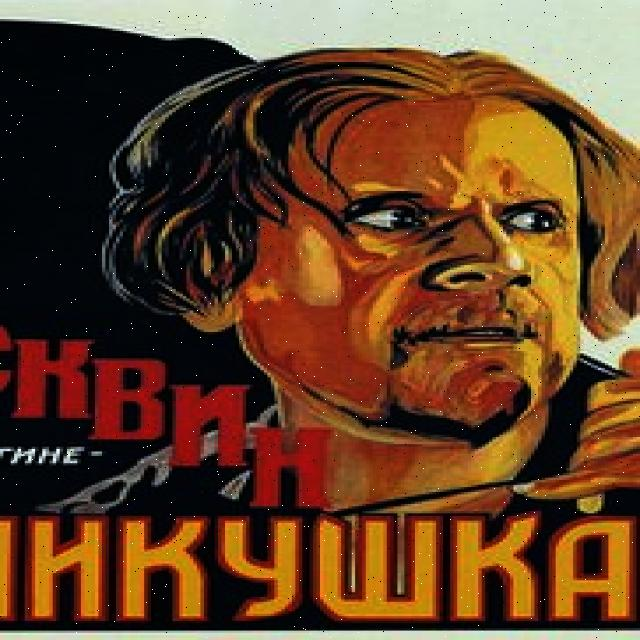movie-judul: (0, 326, 640, 632)
picture: (95, 64, 640, 431)
